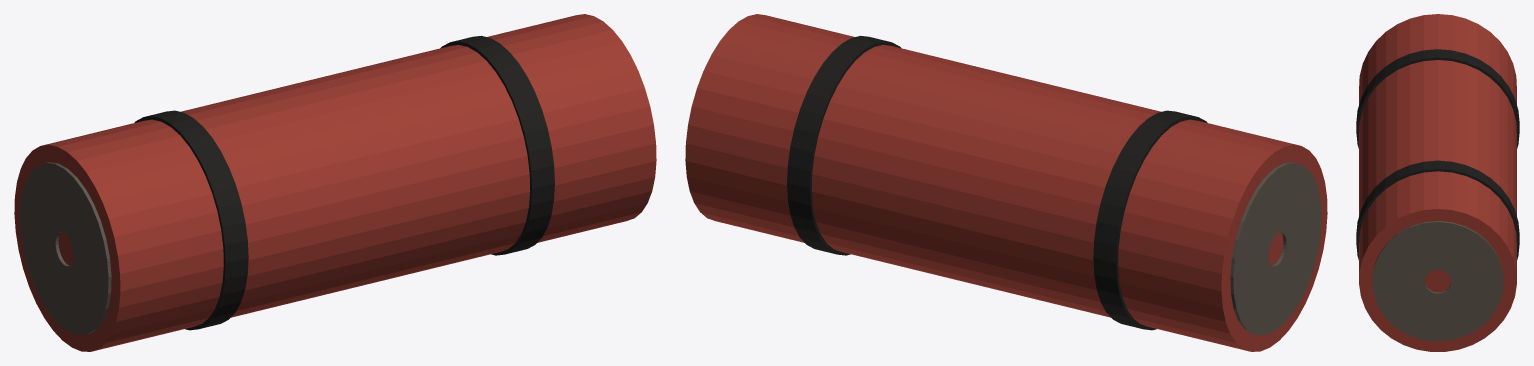
File: bedroll.glb
The picture shows the model from 3 angles, left to right: view 1: azimuth 30°, elevation 25°; view 2: azimuth 150°, elevation 25°; view 3: azimuth 270°, elevation 25°; orthographic projection. The views are drawn at different scales.
Visible parts, largest first — view 1: accent-warm, rubber, fabric; view 2: accent-warm, rubber, fabric; view 3: accent-warm, fabric, rubber.
Boxes of the visible parts, bbox=[...] form: accent-warm: bbox=[14, 14, 656, 351]; rubber: bbox=[134, 35, 554, 330]; fabric: bbox=[20, 162, 111, 335]; accent-warm: bbox=[685, 14, 1327, 351]; rubber: bbox=[787, 35, 1207, 330]; fabric: bbox=[1230, 162, 1321, 335]; accent-warm: bbox=[1359, 14, 1516, 351]; fabric: bbox=[1372, 221, 1503, 340]; rubber: bbox=[1356, 49, 1519, 259].
Bounding box in the file's own units: 0.708 × 0.248 × 0.248.
